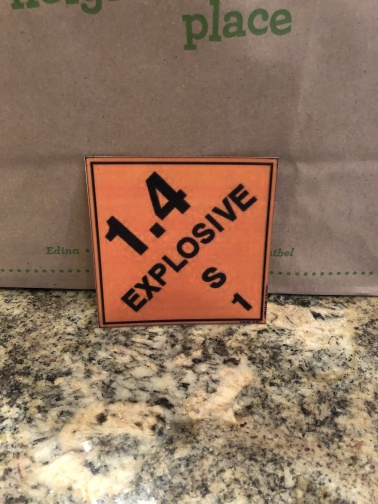Explosive: (89, 157, 265, 331)
